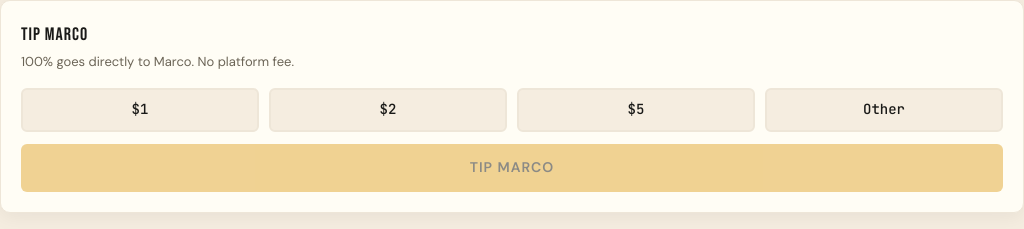
Scenario: TipPanel › submit button is enabled after selecting a preset
Click the button "$5".
click(636, 110)  # box [517,88,755,132]
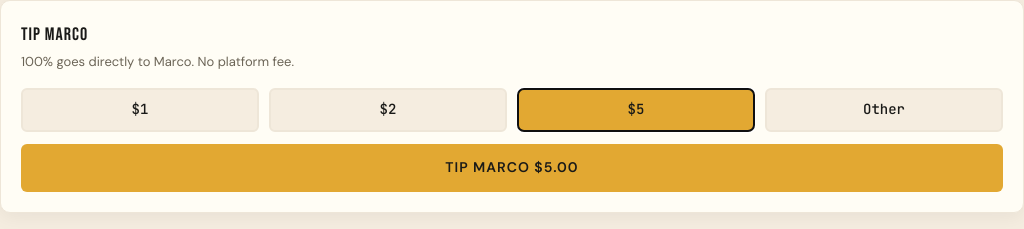
Now the button "TIP MARCO $5.00" is enabled, box [21,144,1003,192]
